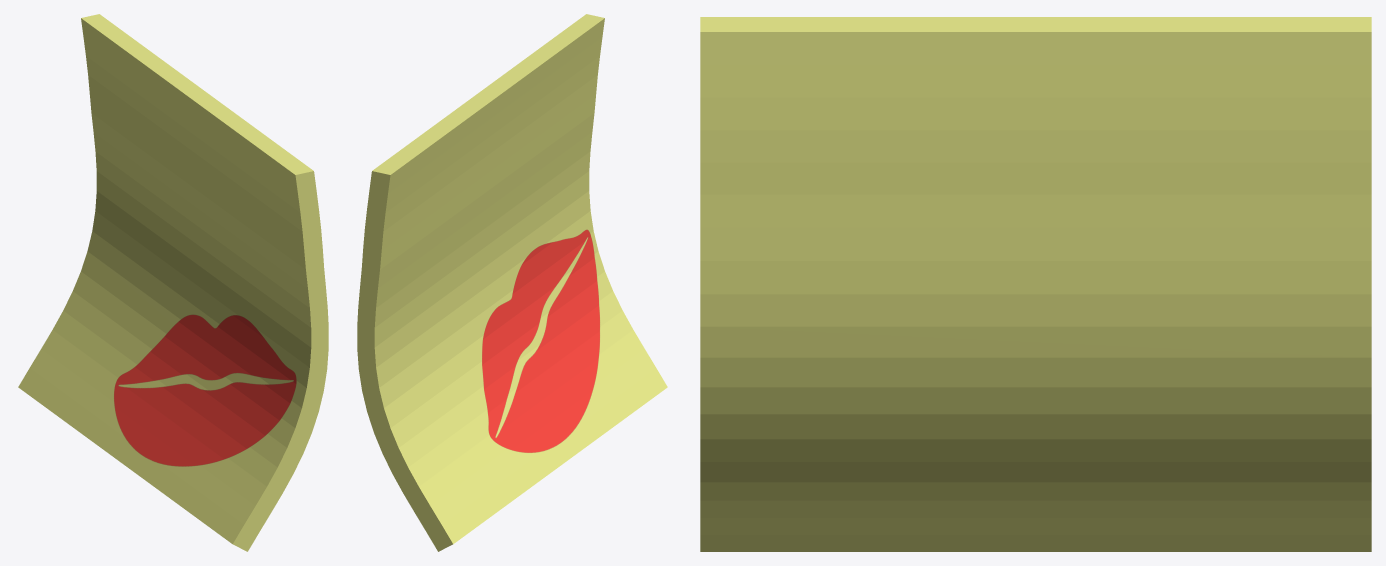
The model's file is lips4.glb.
The picture shows the model from 3 angles, left to right: view 1: azimuth 30°, elevation 25°; view 2: azimuth 150°, elevation 25°; view 3: azimuth 270°, elevation 25°; orthographic projection. The views are drawn at different scales.
Size of the model in its own units: 0.0508 by 0.1772 by 0.1886.
2 materials, 1 textured.
